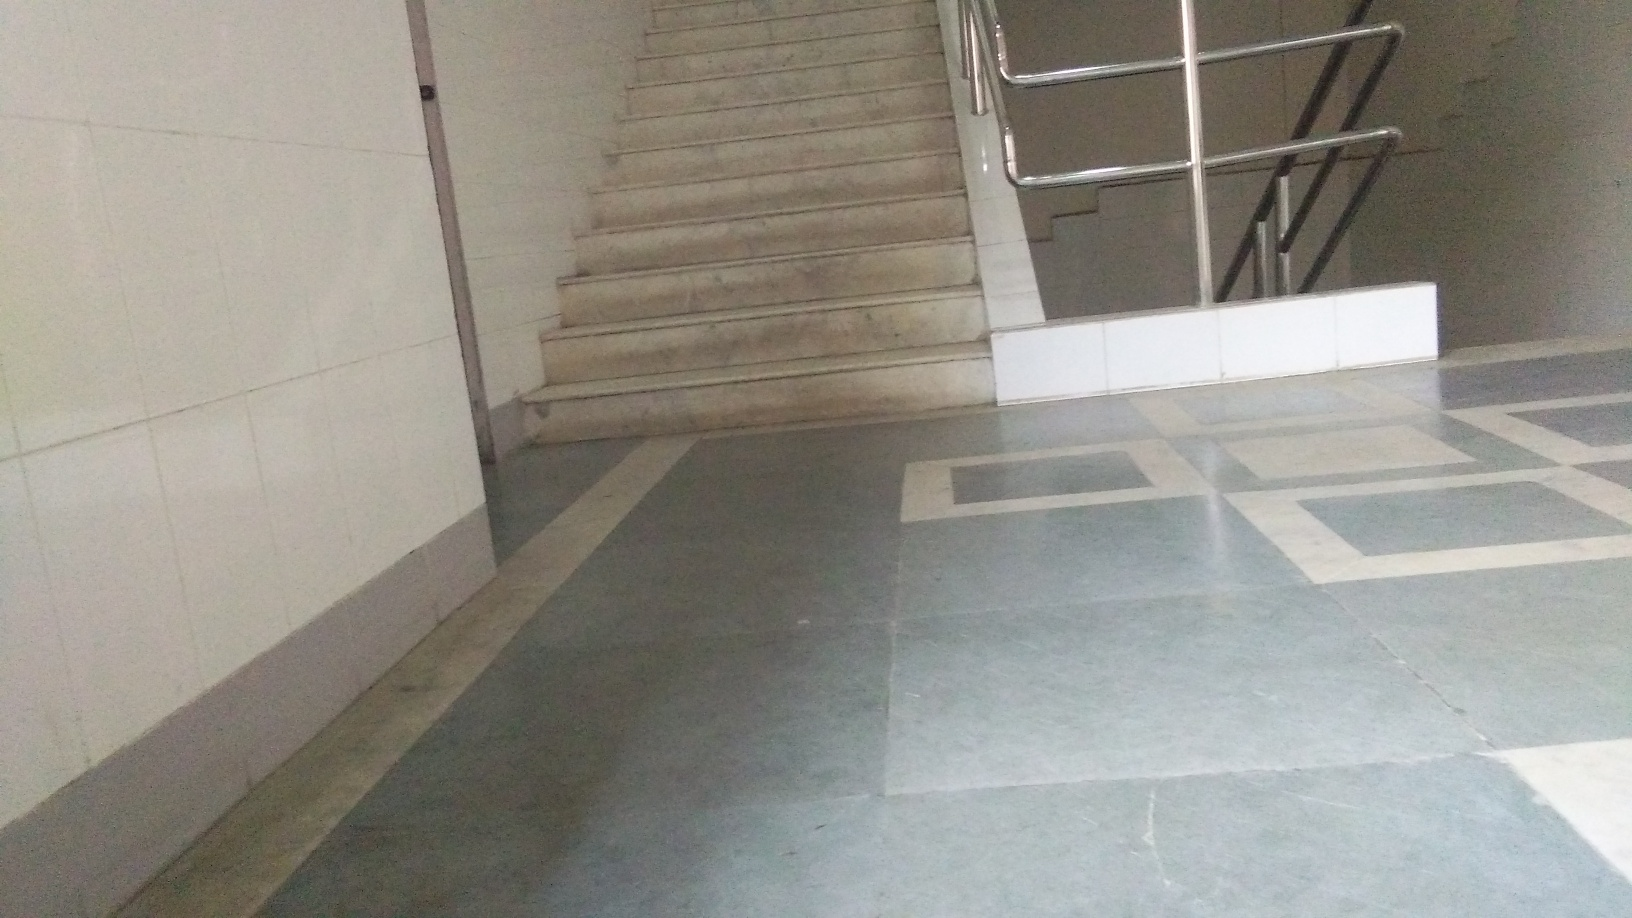stairs_up: (507, 4, 996, 445)
